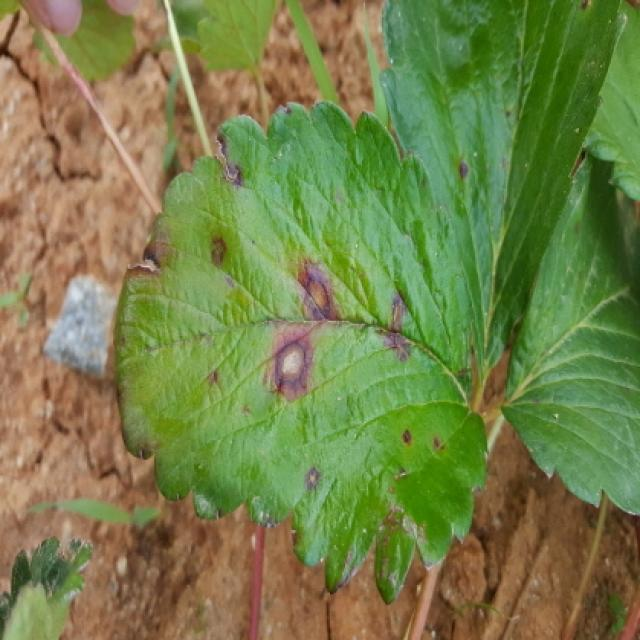Leaf Spot: (115, 100, 490, 606), (379, 0, 628, 388)
